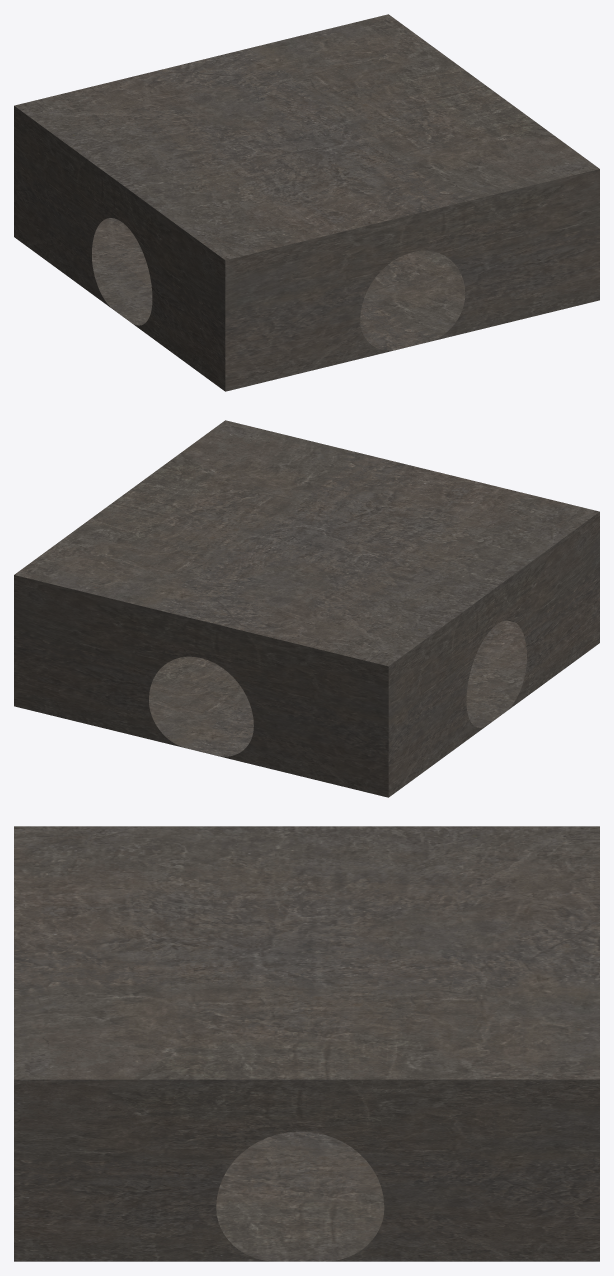
File: kanal_krizisce.obj
3 renders of one model, top to bottom at view 1: azimuth 30°, elevation 25°; view 2: azimuth 150°, elevation 25°; view 3: azimuth 270°, elevation 25°, orthographic. The views are drawn at different scales.
Parts seen in each view (by area): view 1: Cube_Cube.001; view 2: Cube_Cube.001; view 3: Cube_Cube.001.
Boxes of the visible parts, x1=… form: Cube_Cube.001: x1=14, y1=14, x2=599, y2=391; Cube_Cube.001: x1=14, y1=420, x2=599, y2=797; Cube_Cube.001: x1=14, y1=826, x2=599, y2=1261.
Size of the model in its own units: 14.26 by 4.78 by 13.94.
1 material, 1 textured.
